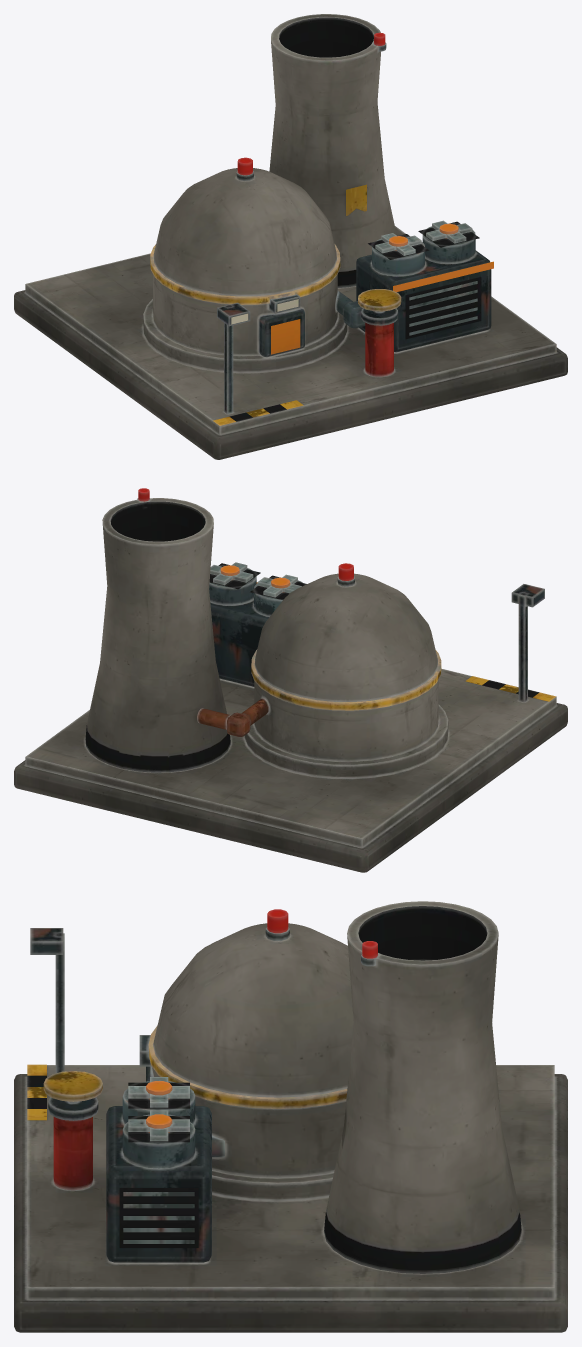
Rendered from rtg.glb.
3 renders of one model, top to bottom at view 1: azimuth 30°, elevation 25°; view 2: azimuth 150°, elevation 25°; view 3: azimuth 270°, elevation 25°, orthographic. The views are drawn at different scales.
Parts seen in each view (by area): view 1: te_rtg, move_fan_1, move_fan_2; view 2: te_rtg, move_fan_2, move_fan_1; view 3: te_rtg, move_fan_2, move_fan_1.
Boxes of the visible parts, left/top/right/bottom form: te_rtg: left=14, top=14, right=567, bottom=459; move_fan_1: left=375, top=233, right=421, bottom=255; move_fan_2: left=426, top=220, right=472, bottom=243; te_rtg: left=14, top=488, right=567, bottom=872; move_fan_2: left=210, top=562, right=253, bottom=585; move_fan_1: left=257, top=574, right=301, bottom=597; te_rtg: left=14, top=901, right=567, bottom=1332; move_fan_2: left=128, top=1110, right=189, bottom=1141; move_fan_1: left=128, top=1077, right=189, bottom=1107.
Size of the model in its own units: 0.84 by 0.5892 by 0.84.
Materials: 1 (1 with a texture image).
